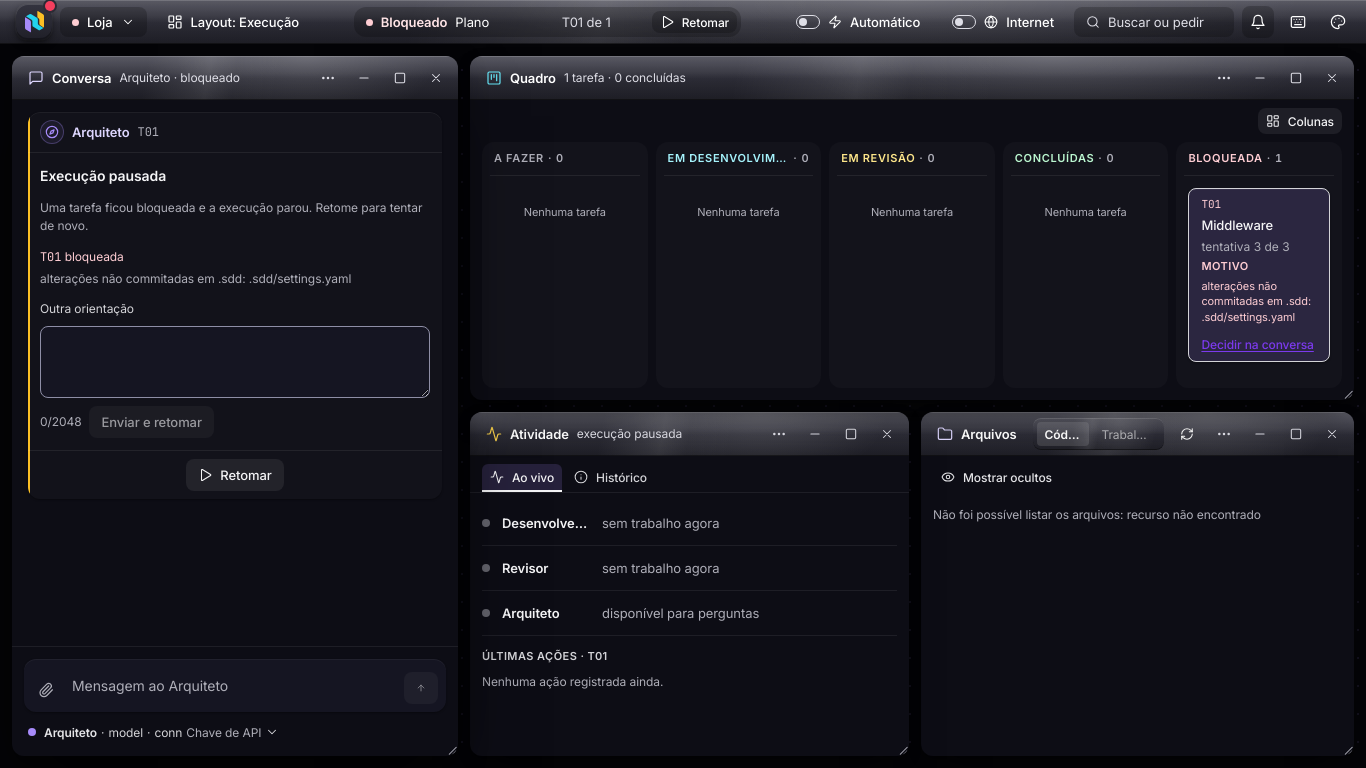
Test: Execução pausada na Conversa › 412 prereq_missing: o que falta com Configurar, e a prontidão é relida
Click the button "Retomar" below "2048" at (235, 476), box left=186, top=460, right=284, bottom=492
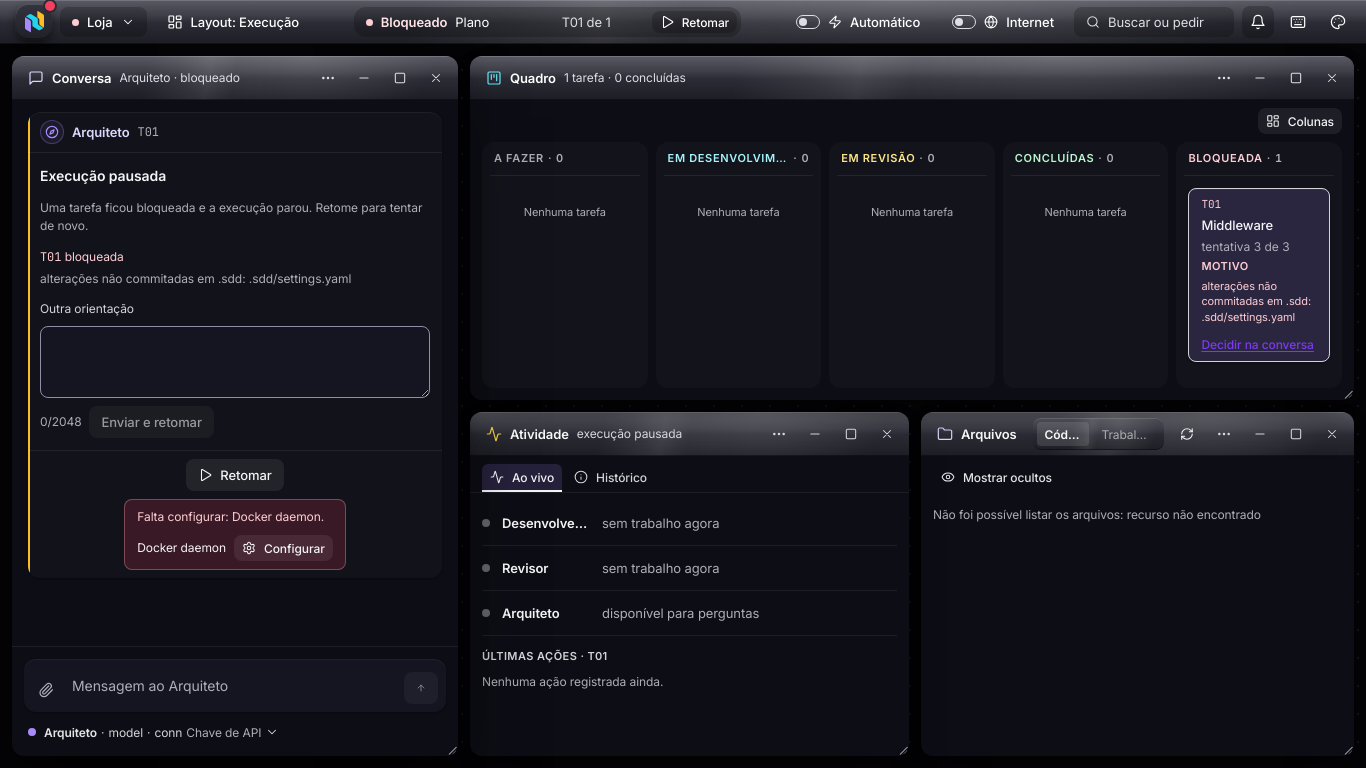
Expected: the message "Falta configurar: Docker daemon. Docker daemon Configurar" is shown, left=124, top=500, right=346, bottom=570
Click the button with aria-label "Configurar: Docker daemon" at (283, 548), box left=234, top=535, right=333, bottom=561
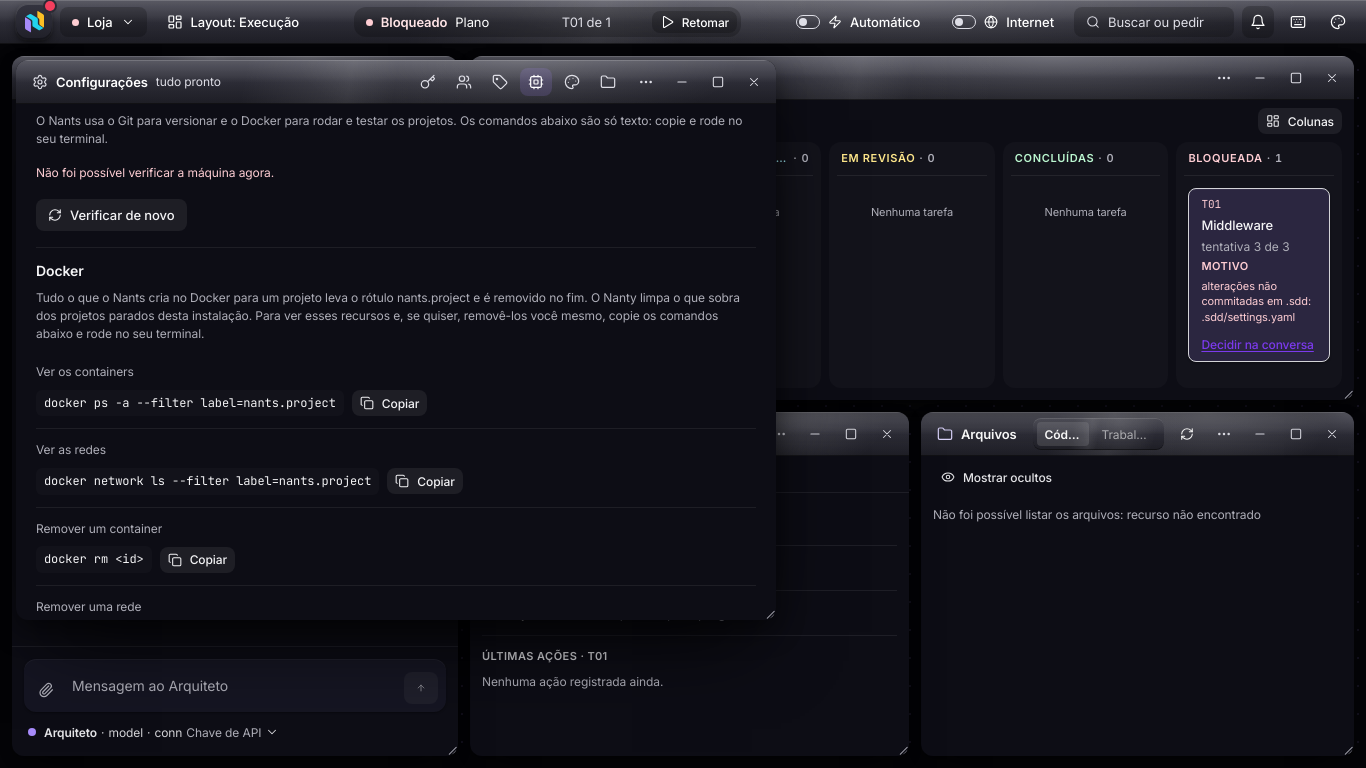
Expected: the element "Configurações" is shown, left=16, top=60, right=776, bottom=620
